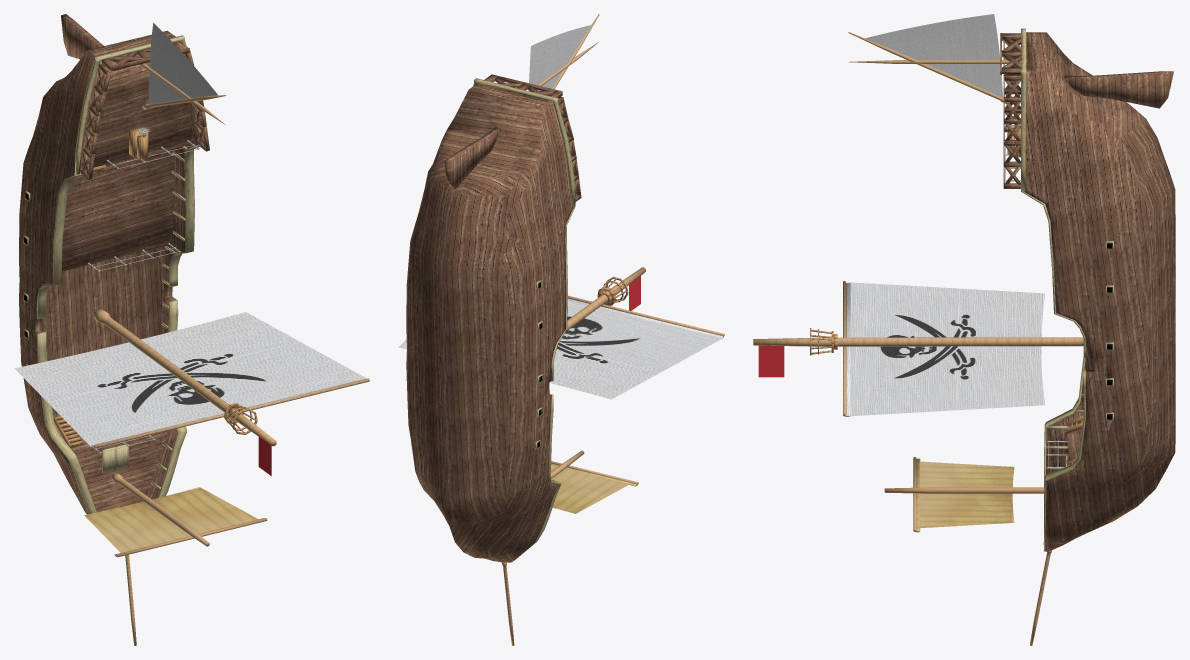
File: mod3el.fbx
The picture shows the model from 3 angles, left to right: view 1: azimuth 30°, elevation 25°; view 2: azimuth 150°, elevation 25°; view 3: azimuth 270°, elevation 25°; orthographic projection. The views are drawn at different scales.
Parts seen in each view (by area): view 1: done_kadlub, zagiel2, done_porecze, zagiel1, done_maszty, zagiel3, done_porecze2, zagiel2_belka, done_ster, done_porecze3, done_zebra2, done_drzwi (+4 smaller); view 2: done_kadlub, zagiel2, zagiel1, zagiel3, done_porecze, done_maszty, done_ster, done_porecze2, zagiel2_belka, done_gniazdo; view 3: done_kadlub, zagiel2, done_maszty, zagiel3, zagiel1, done_ster, done_porecze2, done_porecze, flaga, zagiel2_zwiniety.
Boxes of the visible parts, box(x1,y1,x2,y2) form: done_kadlub: box(19, 30, 198, 514); zagiel2: box(14, 312, 366, 446); done_porecze: box(37, 35, 199, 513); zagiel1: box(84, 487, 258, 552); done_maszty: box(93, 63, 276, 645); zagiel3: box(148, 23, 217, 103); done_porecze2: box(80, 41, 209, 179); zagiel2_belka: box(94, 378, 369, 448); done_ster: box(61, 14, 103, 59); done_porecze3: box(88, 140, 199, 460); done_zebra2: box(23, 146, 186, 490); done_drzwi: box(102, 157, 137, 473); done_kadlub: box(406, 82, 572, 562); zagiel2: box(398, 300, 723, 399); zagiel1: box(551, 463, 629, 513); zagiel3: box(529, 25, 591, 91); done_porecze: box(473, 78, 575, 560); done_maszty: box(502, 14, 645, 645); done_ster: box(444, 127, 499, 189); done_porecze2: box(484, 74, 581, 201); zagiel2_belka: box(568, 295, 724, 336); done_gniazdo: box(597, 276, 628, 305); done_kadlub: box(1021, 32, 1175, 551); zagiel2: box(848, 282, 1044, 416); done_maszty: box(753, 32, 1083, 645); zagiel3: box(864, 14, 1002, 97); zagiel1: box(919, 461, 1014, 528); done_ster: box(1064, 71, 1173, 108); done_porecze2: box(1000, 33, 1026, 188); done_porecze: box(1021, 28, 1085, 550); flaga: box(758, 345, 784, 377); zagiel2_zwiniety: box(845, 283, 850, 416).
Bounding box in the file's own units: 141 × 309 × 188.
Materials: 19 (19 with a texture image).
